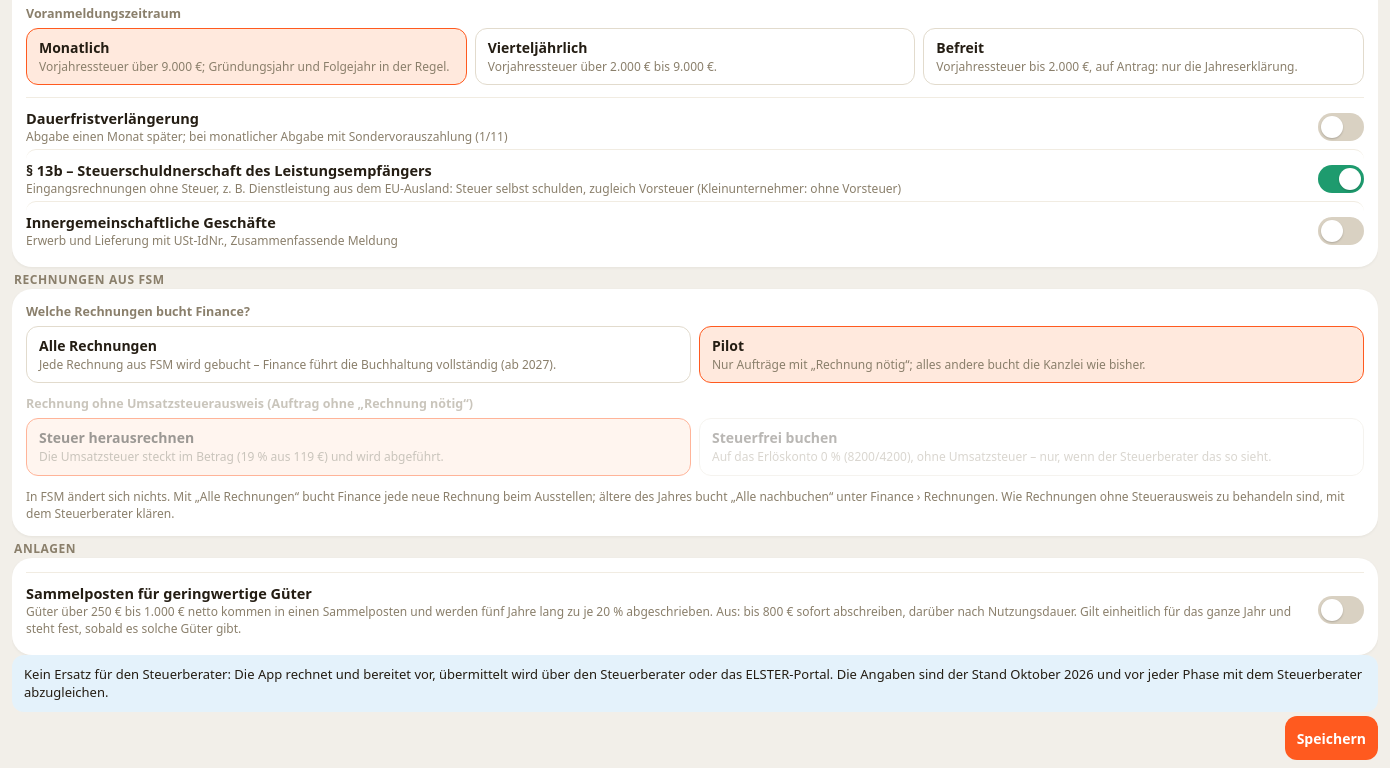
Test: FinanceEinstellungen › speichert die Vorgabe beim ersten Mal
Click the button "Speichern".
click(1331, 738)  # box [1285,716,1378,760]
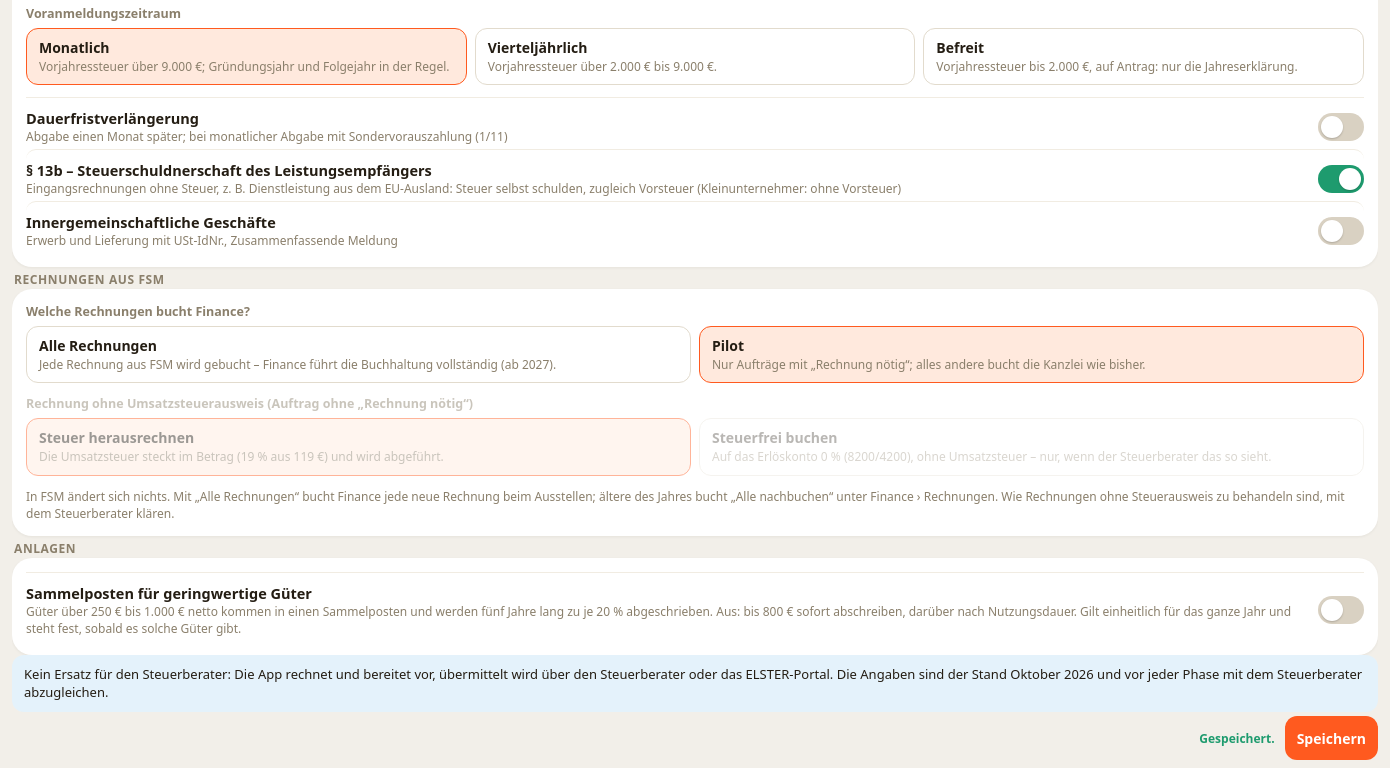
Expected: the text "Gespeichert." is shown, [1199,730,1275,747]
